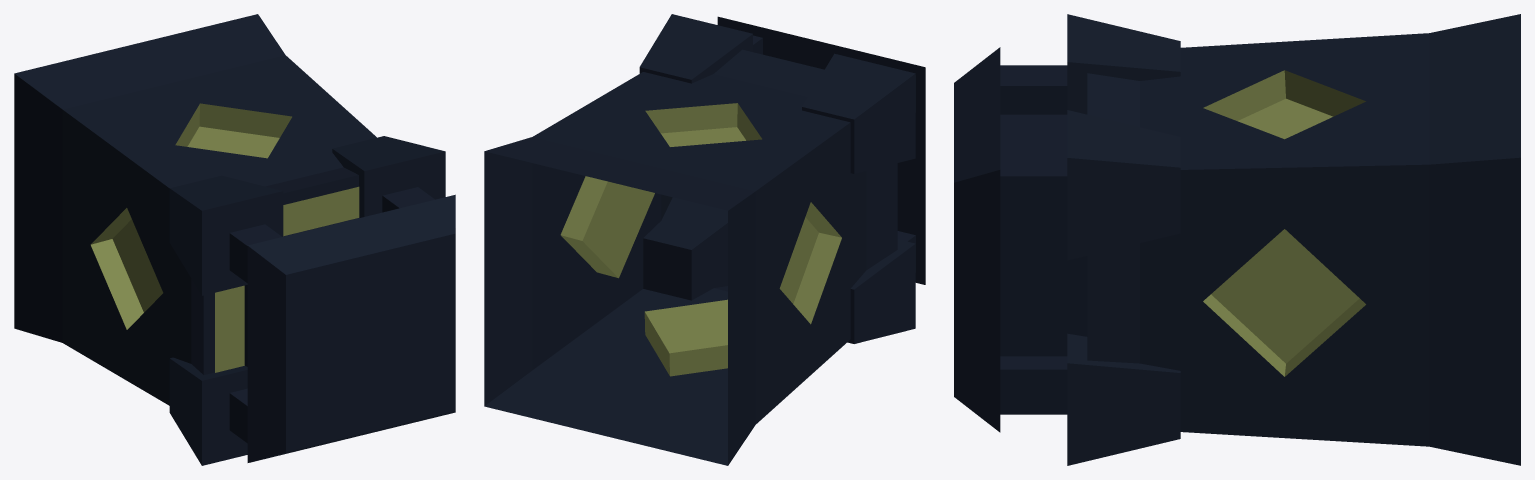
The model's file is Pillar.obj.
3 views of the same model, side by side, from view 1: azimuth 30°, elevation 25°; view 2: azimuth 150°, elevation 25°; view 3: azimuth 270°, elevation 25° (orthographic). The views are drawn at different scales.
Parts seen in each view (by area): view 1: PillarBase, Pillar_sockets, Box002, Box003, Box001, Plane001; view 2: PillarBase, Pillar_sockets, Box002, Box004, Box003, Box001; view 3: PillarBase, Pillar_sockets, Box001, Box004, Box002.
Boxes of the visible parts, x1,y1,x2,y2 form: PillarBase: (14,14,455,462); Pillar_sockets: (90,103,291,329); Box002: (169,175,283,295); Box003: (169,357,247,465); Box001: (332,136,445,217); Plane001: (215,186,359,372); PillarBase: (484,16,925,465); Pillar_sockets: (560,103,841,376); Box002: (802,53,915,173); Box004: (643,197,727,300); Box003: (847,239,915,343); Box001: (639,14,752,83); PillarBase: (954,14,1520,465); Pillar_sockets: (1203,70,1365,376); Box001: (1067,110,1180,260); Box004: (1067,333,1180,465); Box002: (1067,14,1180,114).
Size of the model in its own units: 0.9776 by 0.9777 by 1.63.
